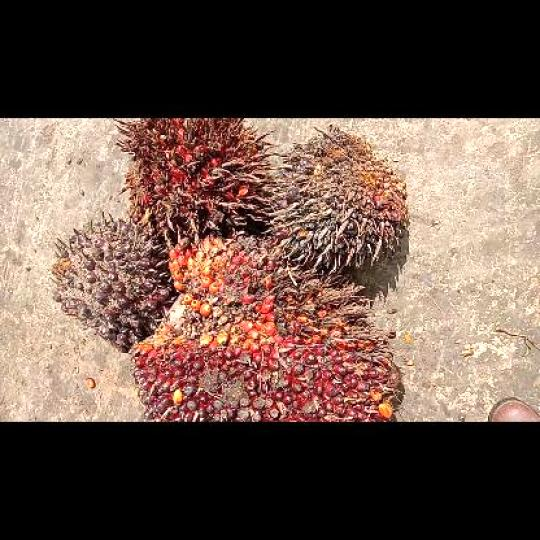kurang masak: (50, 219, 176, 350)
masak: (130, 236, 402, 421)
terlalu masak: (114, 118, 265, 238)
